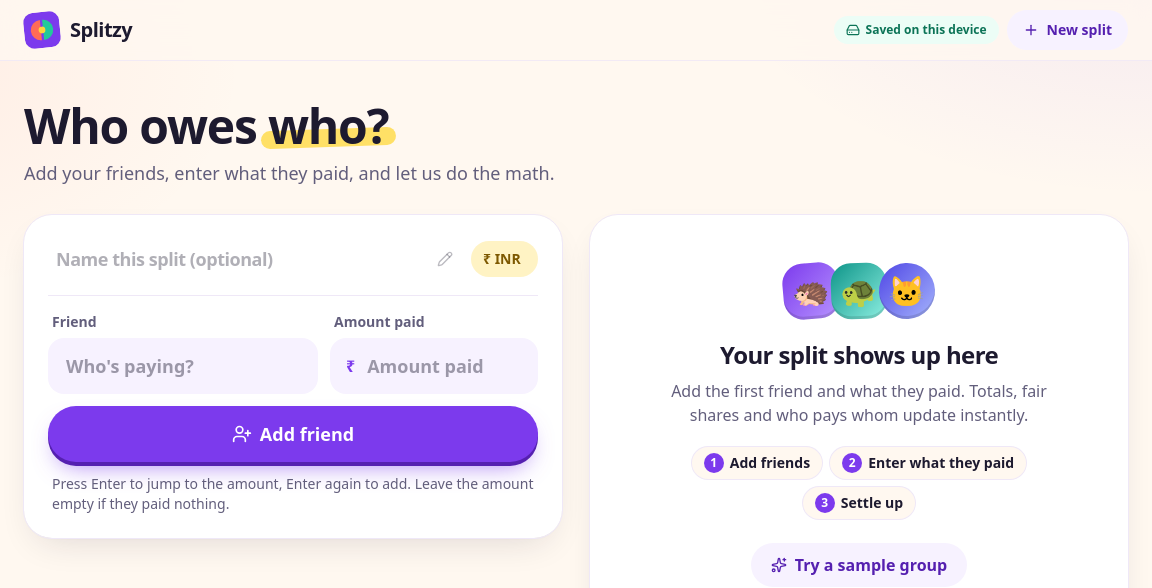
Scenario: Splitzy app › adds friends and calculates who pays whom
Type "Alice" into the field labelled "Friend" at (183, 366), box [48,338,318,394]
Type "900" into the field labelled "Amount paid" at (434, 366), box [330,338,538,394]
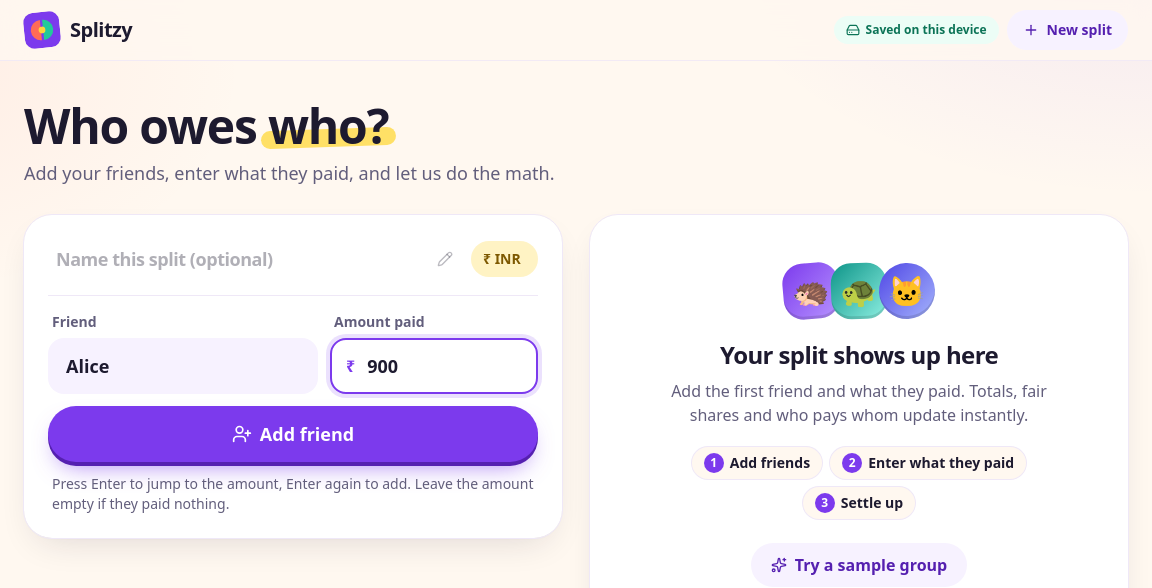
Click the button "Add friend" at (293, 434), box [48,406,538,462]
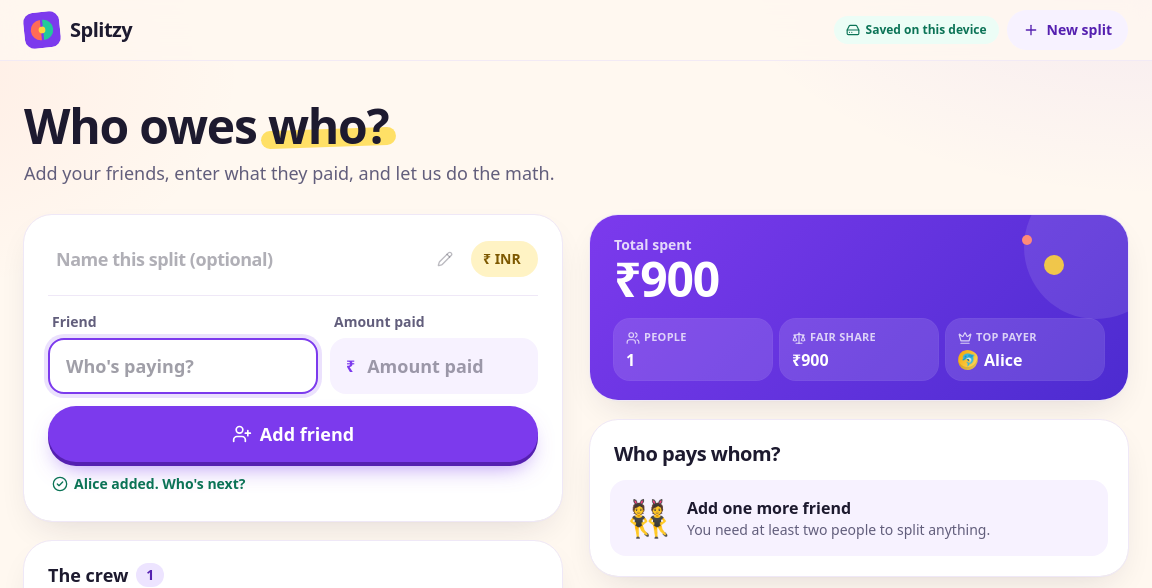
Type "Bob" into the field labelled "Friend" at (183, 366), box [48,338,318,394]
Type "300" into the field labelled "Amount paid" at (434, 366), box [330,338,538,394]
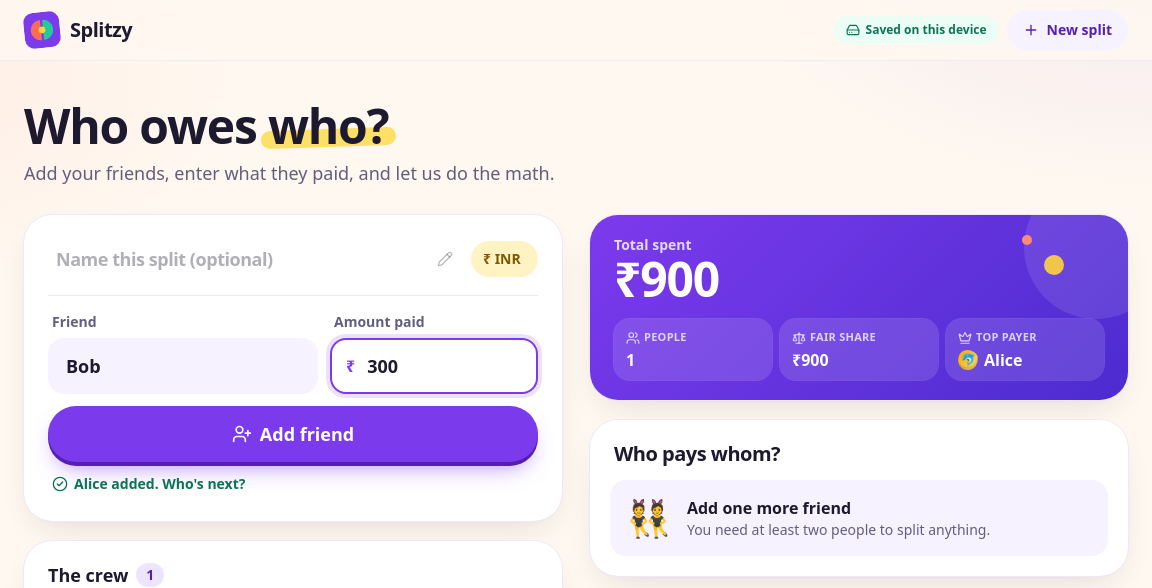
Click the button "Add friend" at (293, 434), box [48,406,538,462]
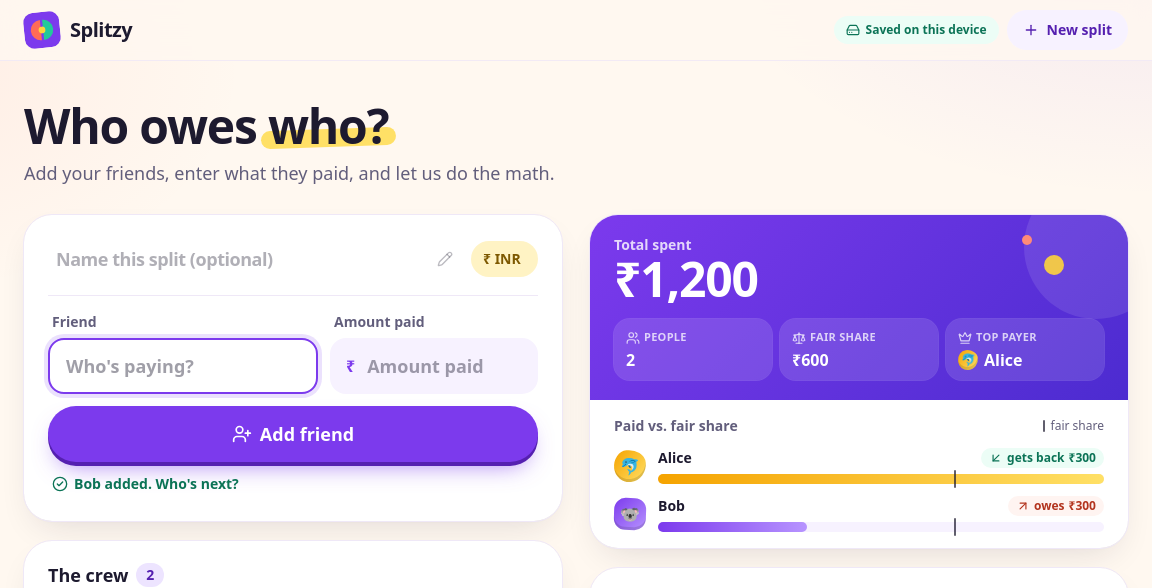
Type "Charlie" into the field labelled "Friend" at (183, 366), box [48,338,318,394]
Then press Enter
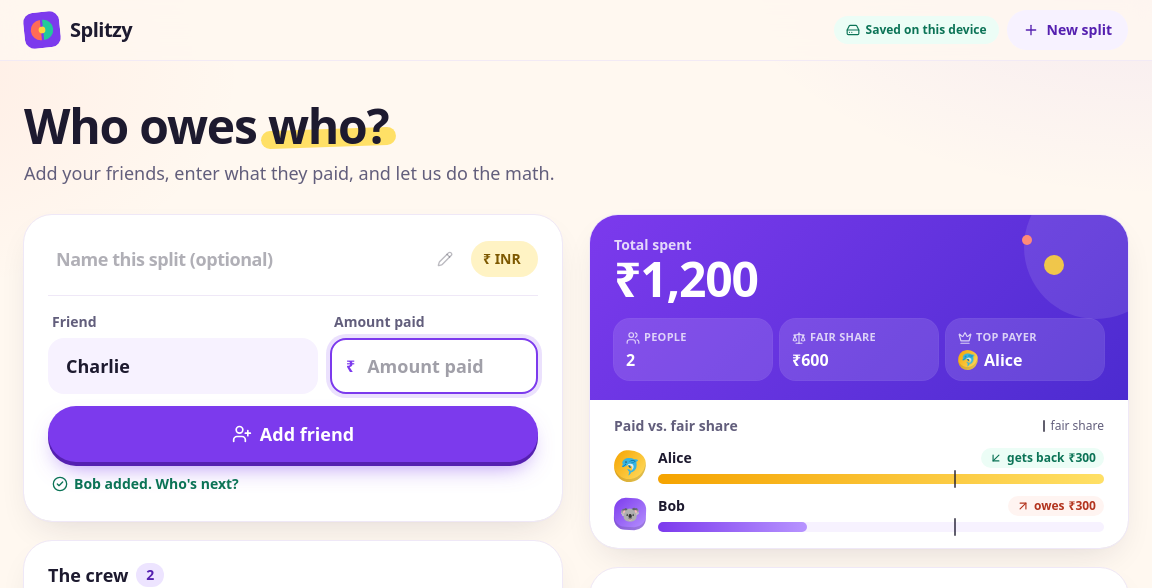
Press Enter
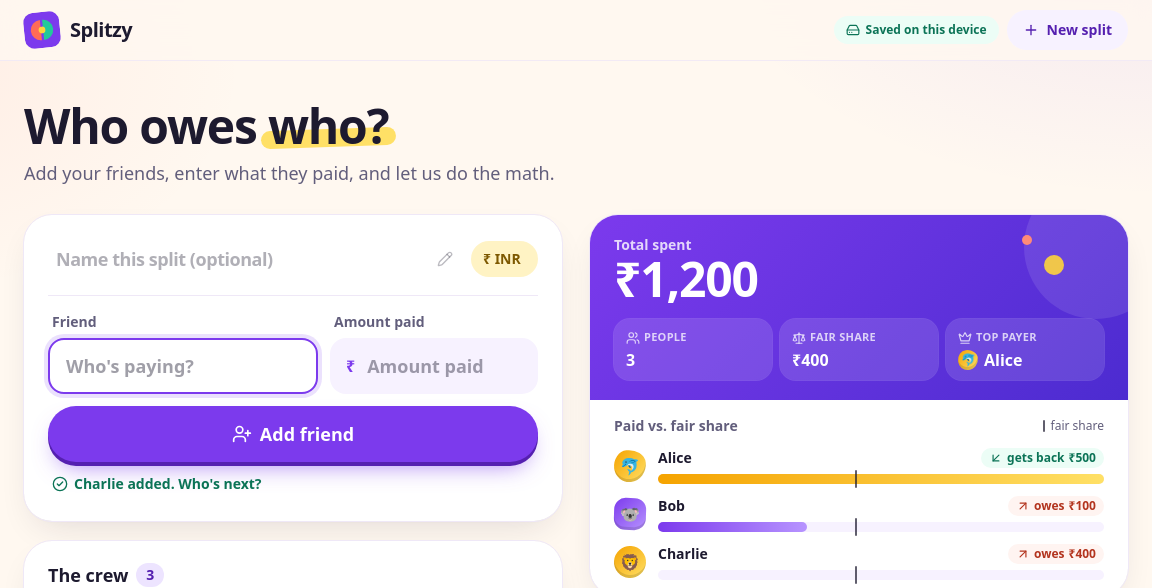
Result: the text "₹1,200" is shown at [614,246,758,311]
Result: the text "₹400" below "People" is shown at [792,349,829,371]
